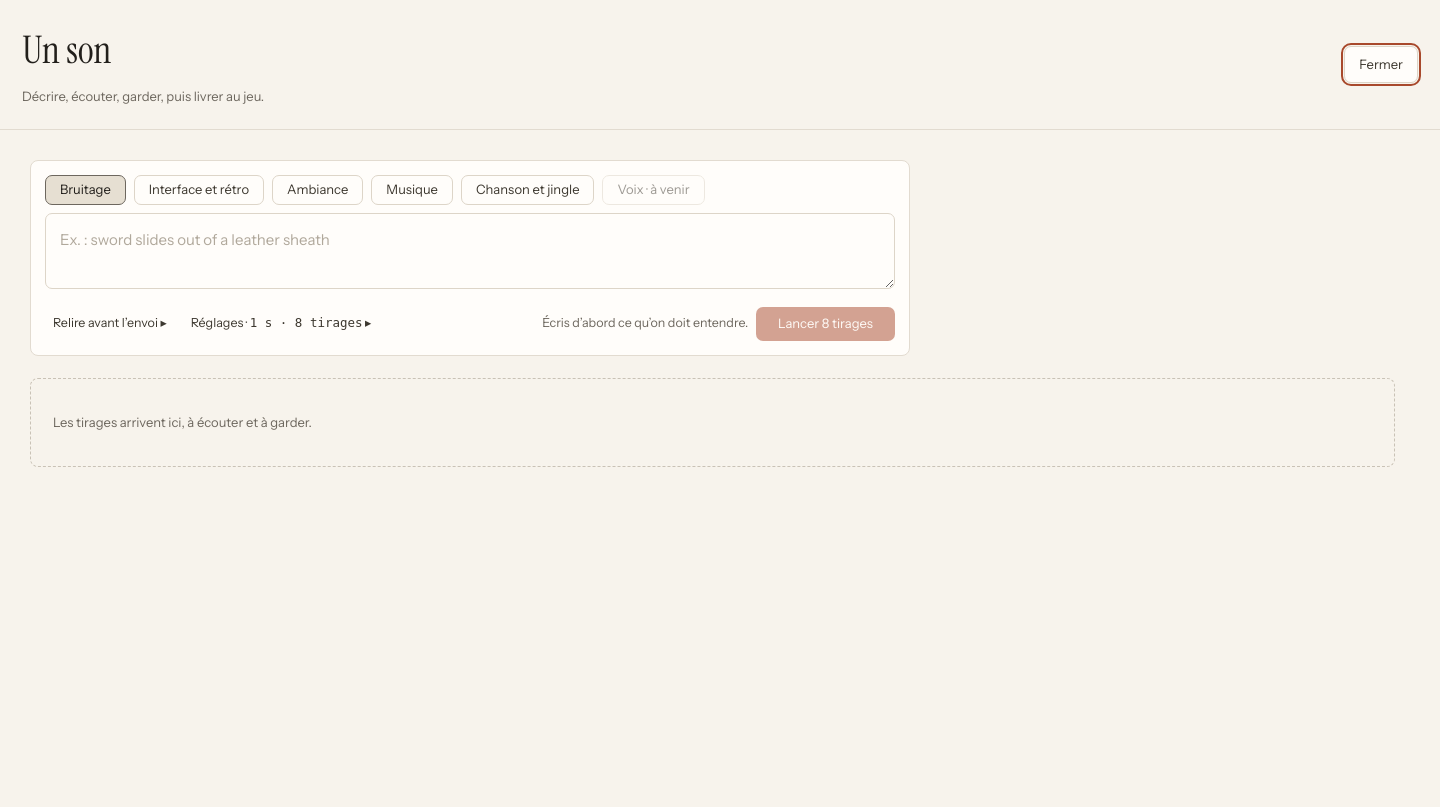
Test: la musique se règle en tempo, tonalité, mesure et nombre de mesures ; la durée se calcule
This screenshot has width=1440, height=807.
Click the button "Musique".
click(412, 190)  # box x1=371 y1=174 x2=453 y2=204
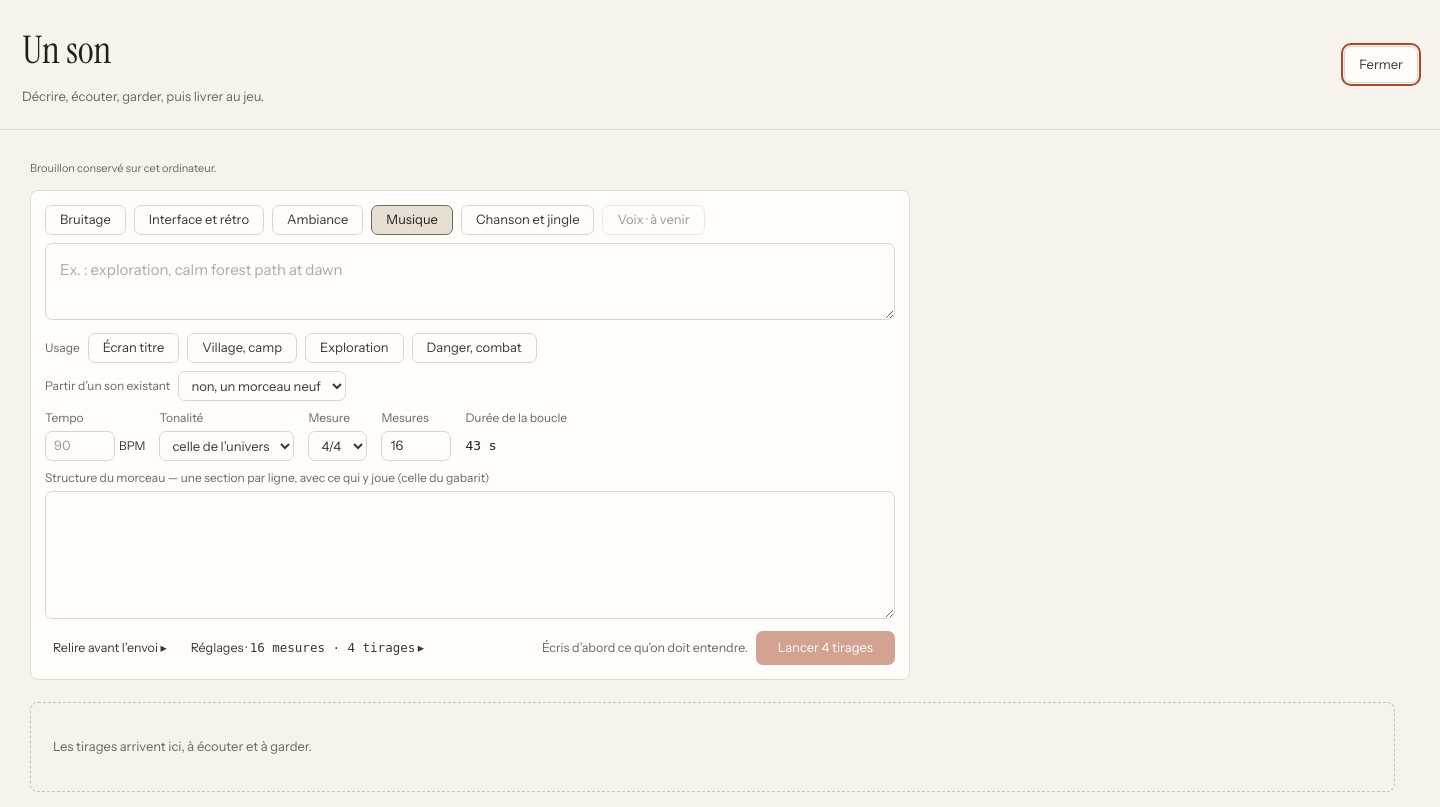
Type "Exploration, calm forest path" into the text box named "Ce qu’on doit entendre".
click(470, 281); type("Exploration, calm forest path")  # box x1=45 y1=243 x2=895 y2=320
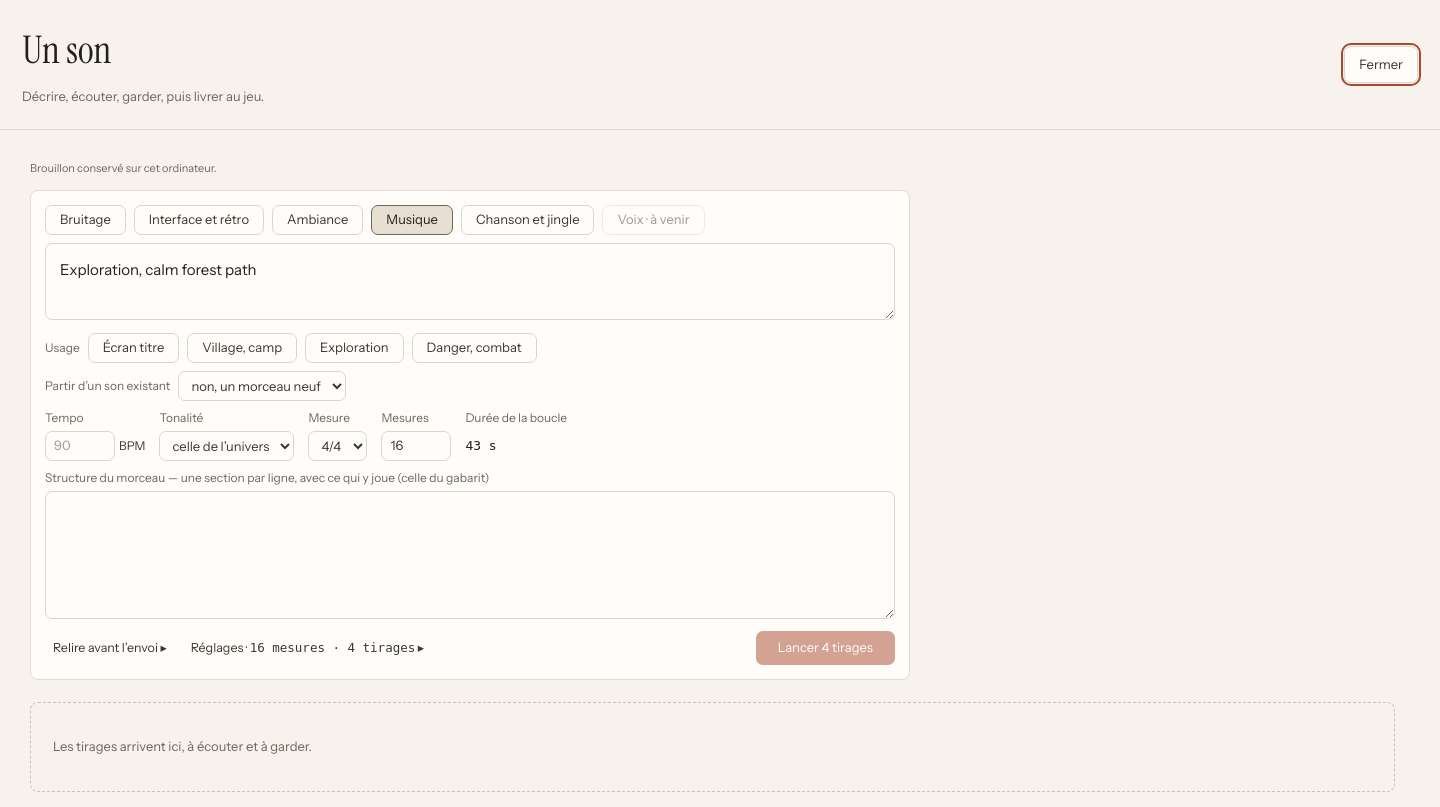
Type "120" into the number field labelled "Tempo".
click(80, 446); type("120")  # box x1=45 y1=431 x2=115 y2=461
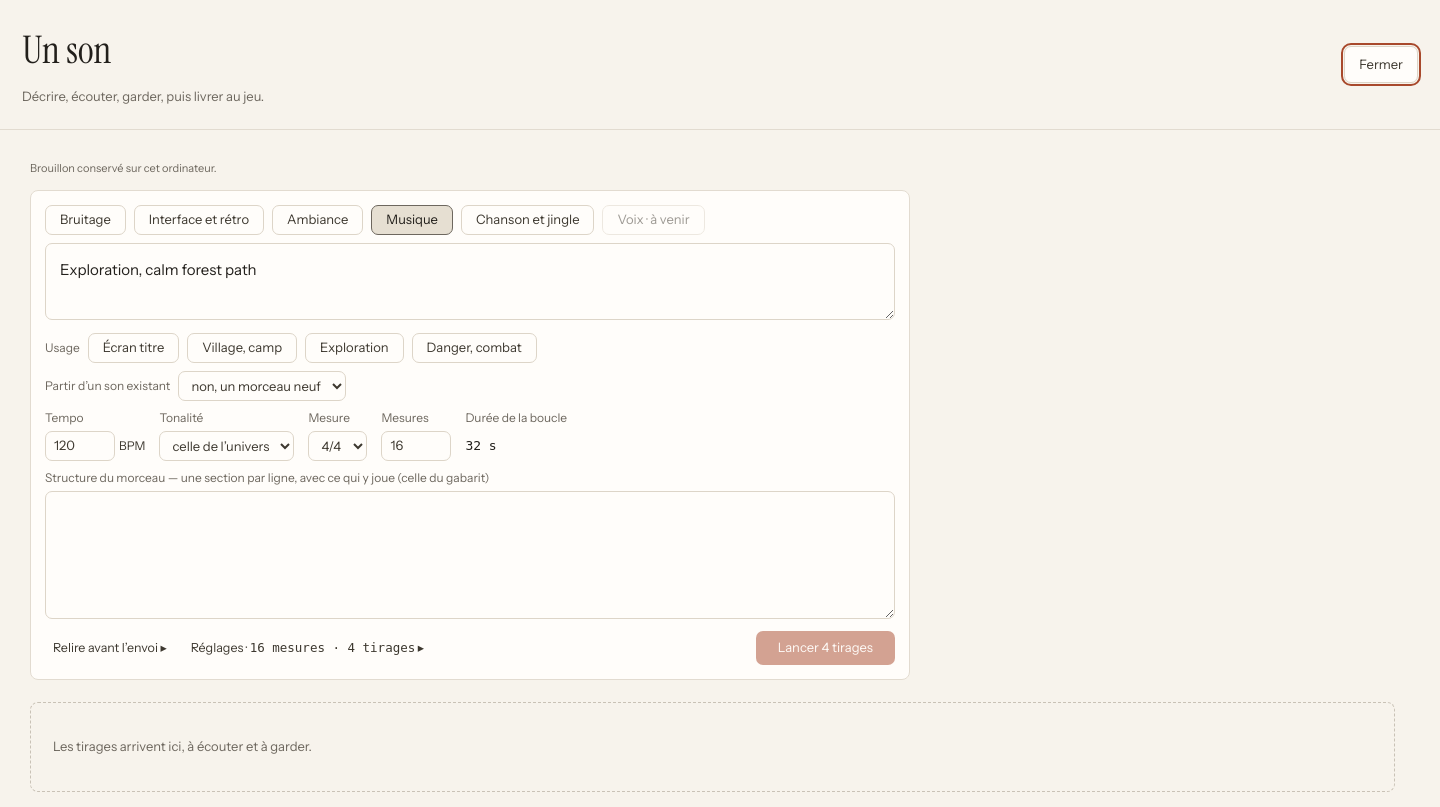
Select "ré mineur" in the dropdown labelled "Tonalité" at (227, 446), box x1=159 y1=431 x2=294 y2=461
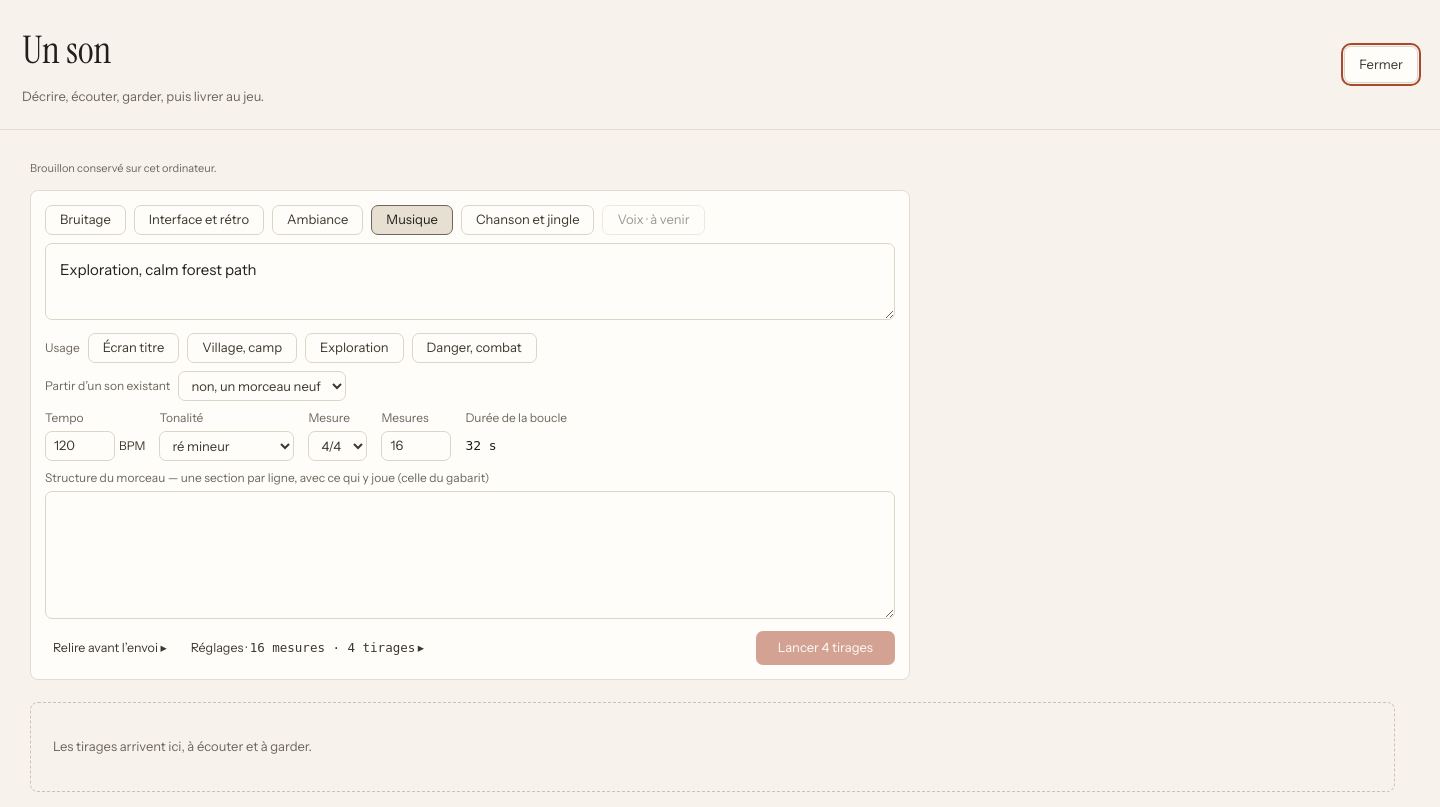
Select "3/4" in the dropdown labelled "Mesure" at (338, 446), box x1=308 y1=431 x2=367 y2=461
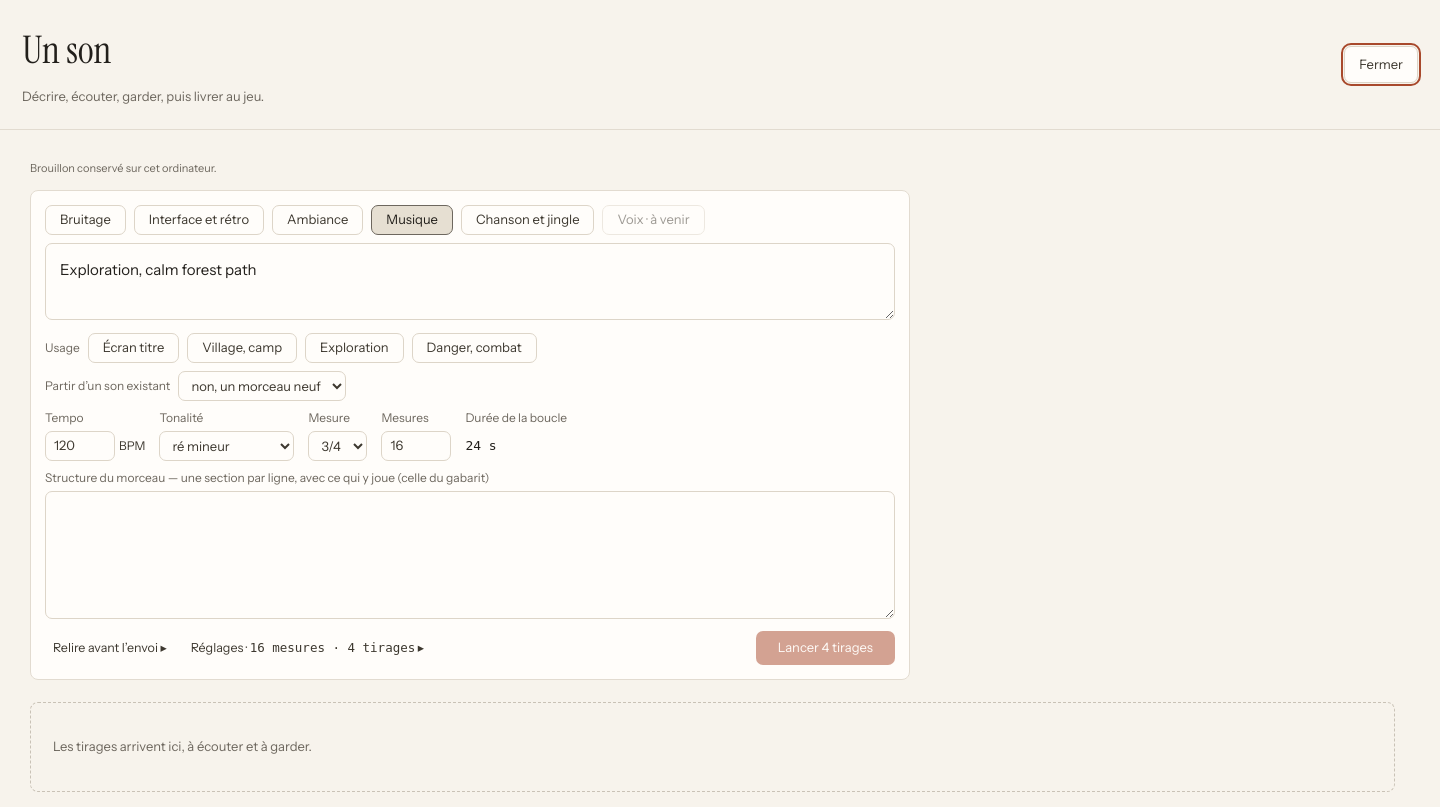
Replace the text in the number field named "Nombre de mesures" with "8" at (416, 446), box x1=381 y1=431 x2=451 y2=461
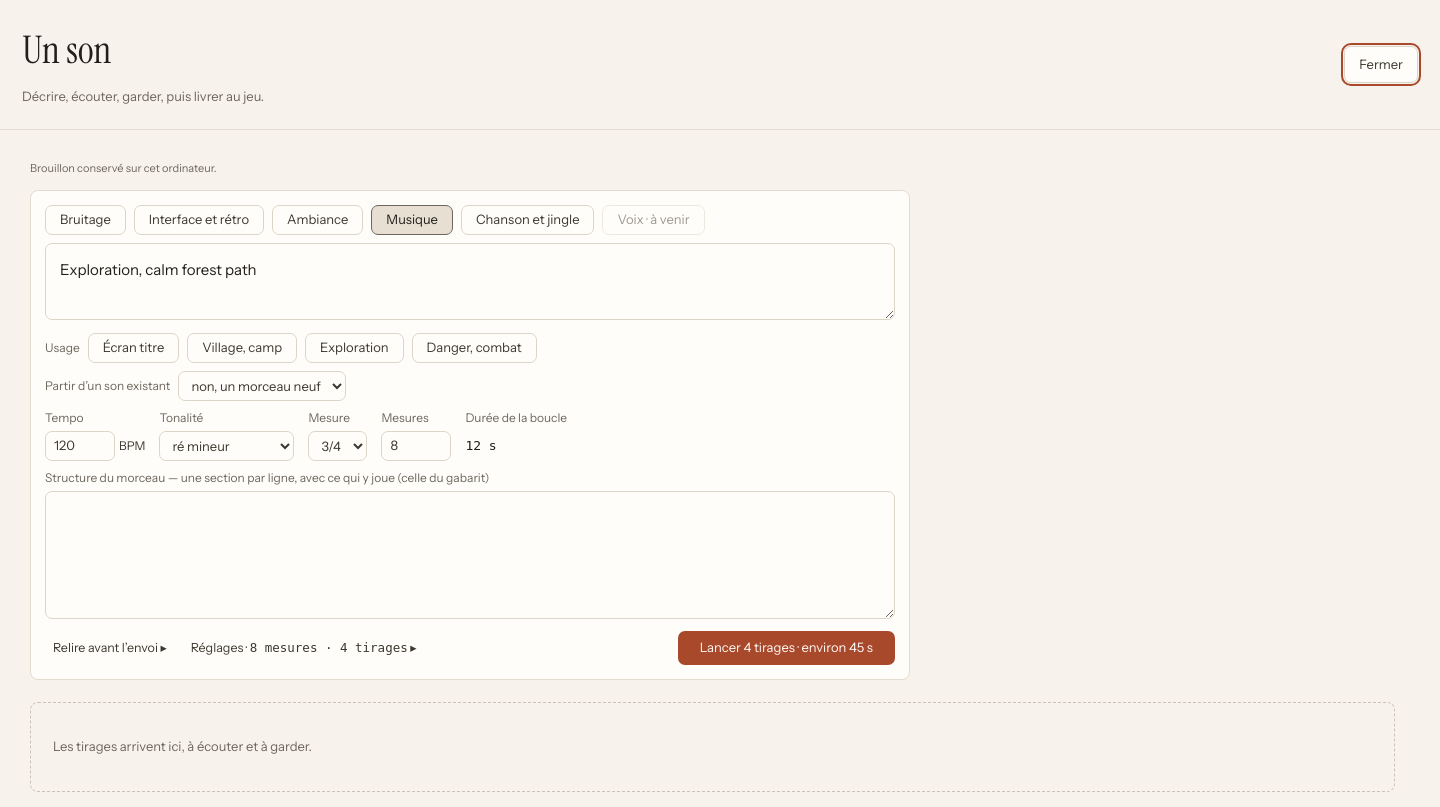
Expected: the text "12 s" is shown, x1=465 y1=438 x2=497 y2=453
